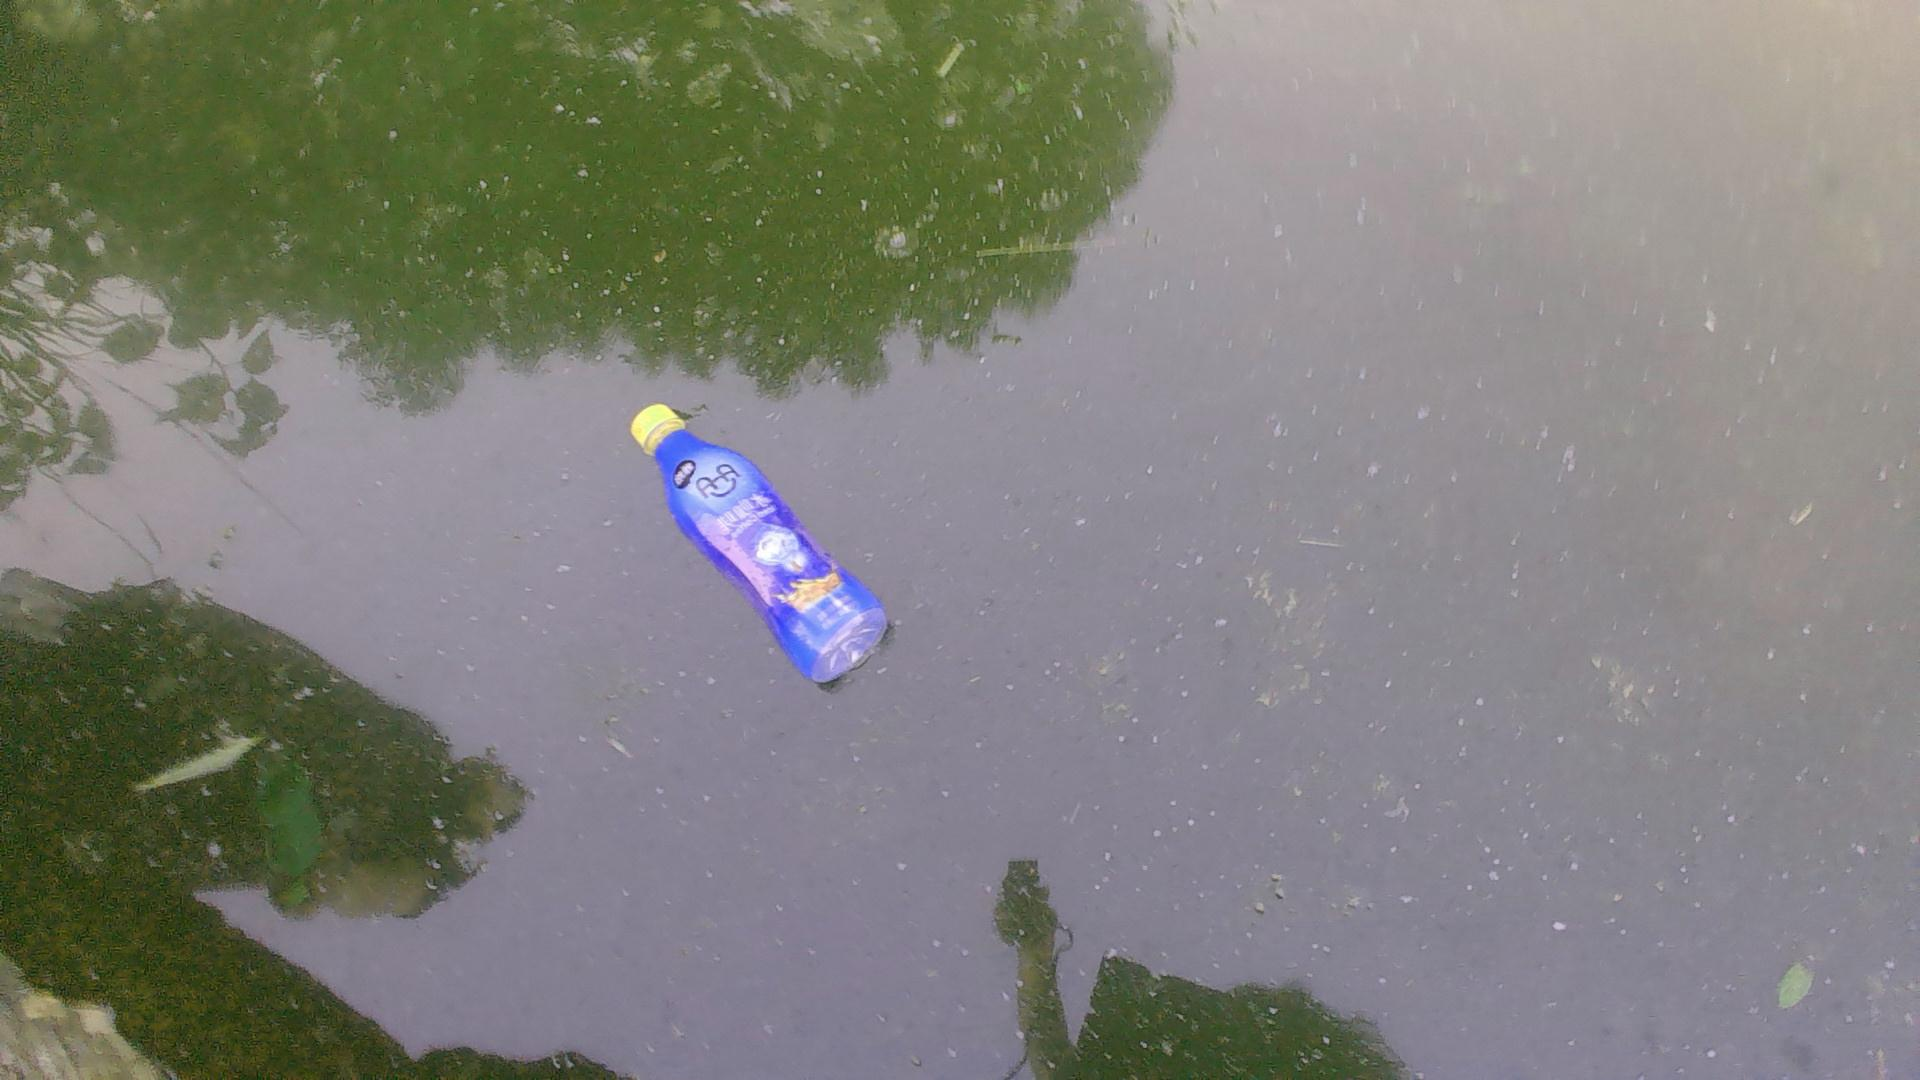Plastic: (626, 398, 891, 683)
